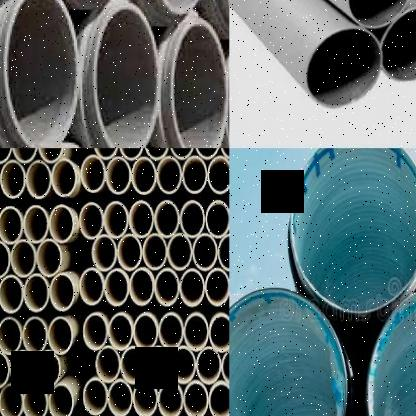pipe: (290, 148, 416, 313), (229, 287, 347, 416), (0, 0, 80, 148), (86, 3, 162, 148), (166, 15, 230, 148), (306, 25, 384, 111), (366, 285, 416, 416), (380, 4, 416, 82), (345, 0, 413, 30), (0, 159, 26, 199), (36, 238, 62, 277), (35, 350, 61, 389), (23, 274, 49, 312), (26, 160, 51, 199), (49, 204, 74, 243), (180, 268, 205, 307), (184, 313, 209, 352), (120, 346, 145, 385), (182, 156, 208, 193), (192, 233, 218, 270), (81, 155, 106, 193), (131, 157, 156, 195), (154, 200, 179, 238), (103, 201, 128, 239), (11, 239, 36, 277), (129, 268, 154, 306), (48, 317, 73, 355), (196, 347, 221, 385), (52, 158, 76, 197), (11, 350, 35, 389), (79, 268, 104, 305), (133, 314, 158, 351), (95, 346, 120, 383), (146, 347, 171, 384), (171, 347, 196, 384), (83, 378, 108, 415), (107, 379, 132, 416), (0, 273, 23, 313), (148, 0, 209, 15), (157, 156, 181, 194), (129, 200, 153, 238), (181, 200, 205, 238), (24, 205, 48, 243), (168, 233, 192, 271), (155, 268, 179, 306), (205, 268, 229, 306), (104, 269, 128, 307), (50, 273, 74, 311), (159, 313, 183, 351), (83, 313, 107, 351), (92, 235, 117, 271), (133, 380, 158, 416), (106, 157, 130, 194), (205, 200, 229, 237), (79, 202, 103, 239), (118, 234, 142, 271), (108, 314, 132, 351), (23, 317, 47, 354), (143, 233, 166, 271), (184, 380, 208, 416), (207, 155, 229, 194), (0, 205, 22, 244), (48, 383, 74, 416), (158, 381, 182, 416), (0, 316, 21, 355), (23, 382, 47, 416), (0, 383, 23, 416), (209, 315, 229, 352), (208, 383, 229, 416), (218, 233, 229, 271), (37, 148, 64, 163), (12, 148, 38, 163), (0, 240, 10, 279), (0, 350, 9, 389), (221, 348, 229, 386), (119, 148, 143, 160), (93, 148, 118, 159), (195, 148, 220, 159), (169, 148, 194, 159), (144, 148, 169, 159), (0, 148, 12, 164)
